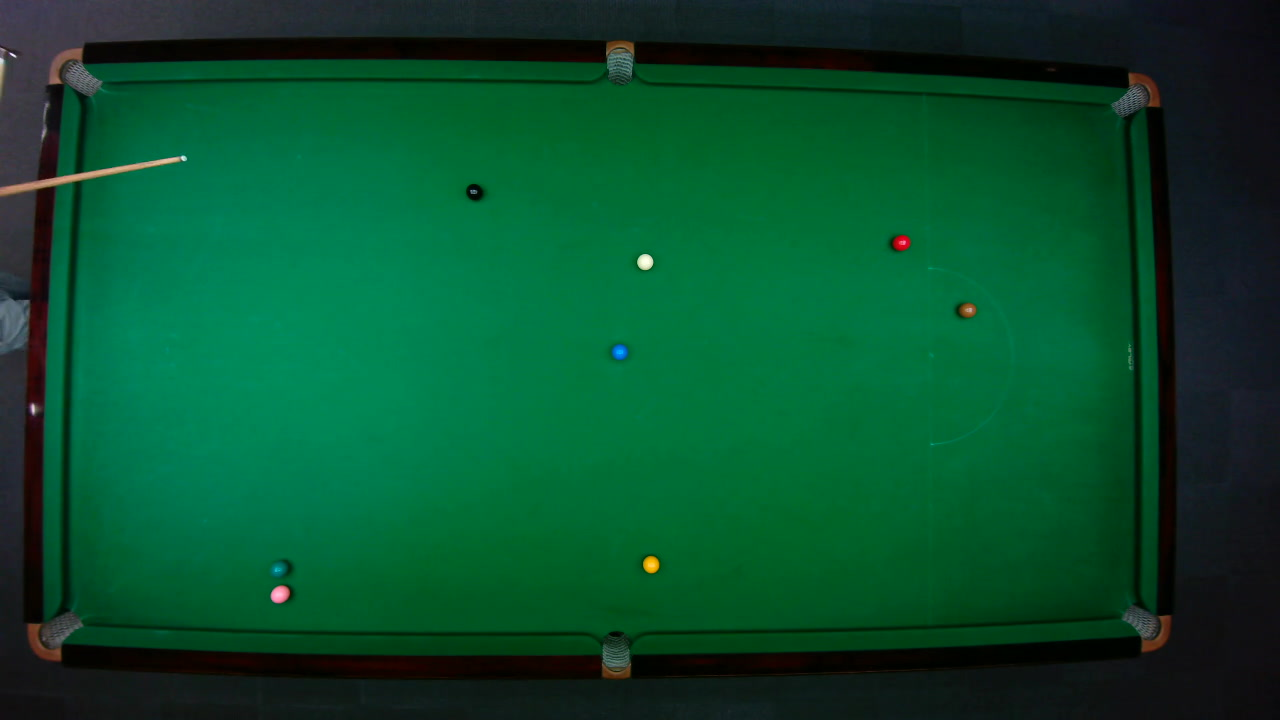bag: (25, 609, 84, 661), (46, 47, 102, 96), (1119, 603, 1171, 652), (1109, 72, 1160, 118), (601, 629, 630, 679), (605, 38, 633, 85)
black: (464, 182, 483, 200)
blue: (610, 343, 628, 360)
brown: (956, 301, 977, 317)
cue: (0, 152, 188, 199)
green: (268, 558, 289, 576)
pink: (268, 583, 290, 604)
red: (890, 233, 911, 251)
white: (635, 252, 654, 270)
yellow: (641, 553, 660, 573)
zone: (927, 265, 1013, 445)
